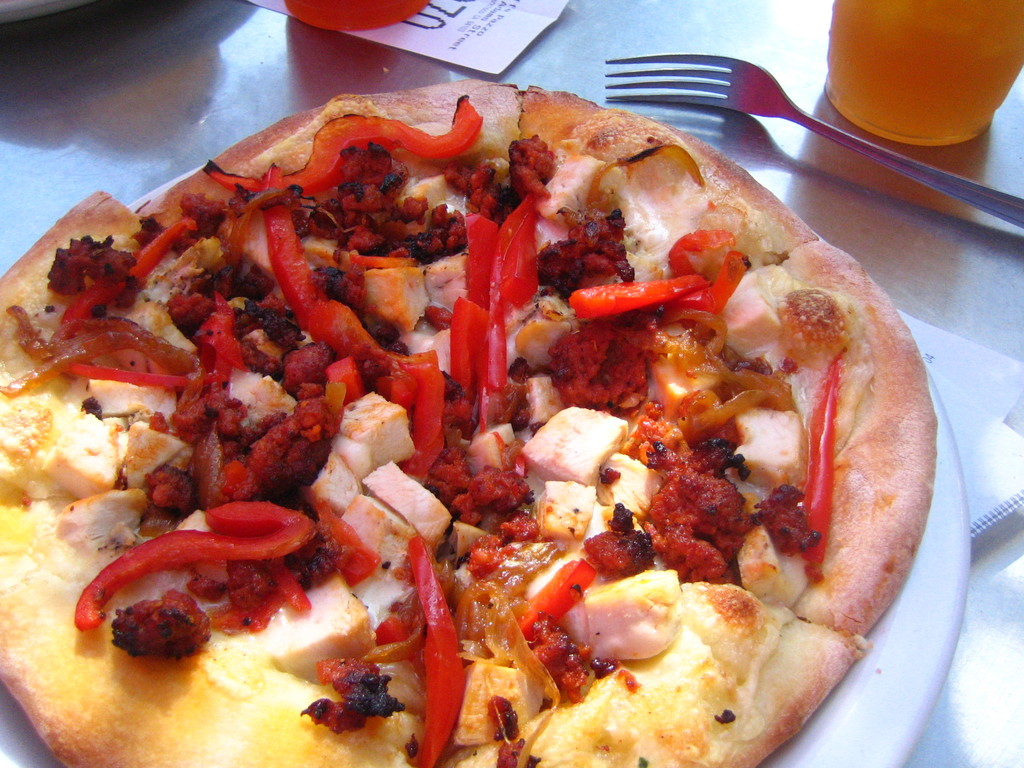Pizza: (144, 85, 510, 533), (528, 275, 913, 638), (497, 69, 827, 422), (0, 169, 346, 493), (0, 492, 413, 752), (504, 549, 860, 767)
